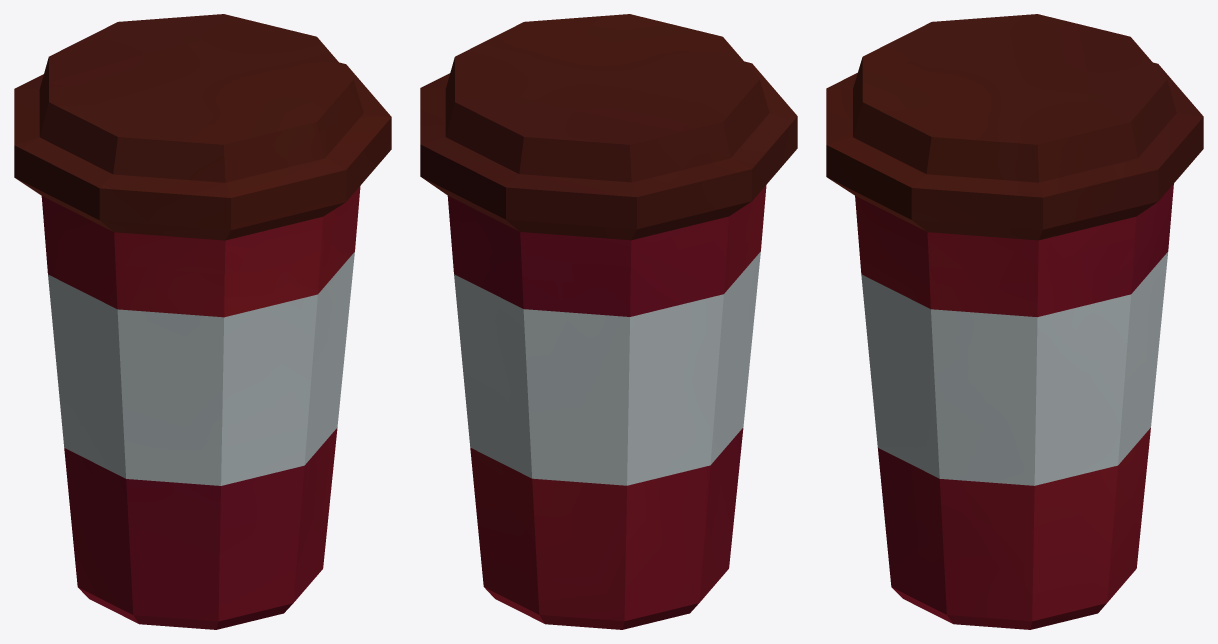
File: coffee.fbx
The picture shows the model from 3 angles, left to right: view 1: azimuth 30°, elevation 25°; view 2: azimuth 150°, elevation 25°; view 3: azimuth 270°, elevation 25°; orthographic projection.
Parts seen in each view (by area): view 1: coffee-cup-paper; view 2: coffee-cup-paper; view 3: coffee-cup-paper.
Boxes of the visible parts, <box> form: coffee-cup-paper: <box>14,14,391,629</box>; coffee-cup-paper: <box>420,14,797,629</box>; coffee-cup-paper: <box>826,14,1203,629</box>.
Bounding box in the file's own units: 10.45 × 15.13 × 10.29.
1 material, 1 textured.
